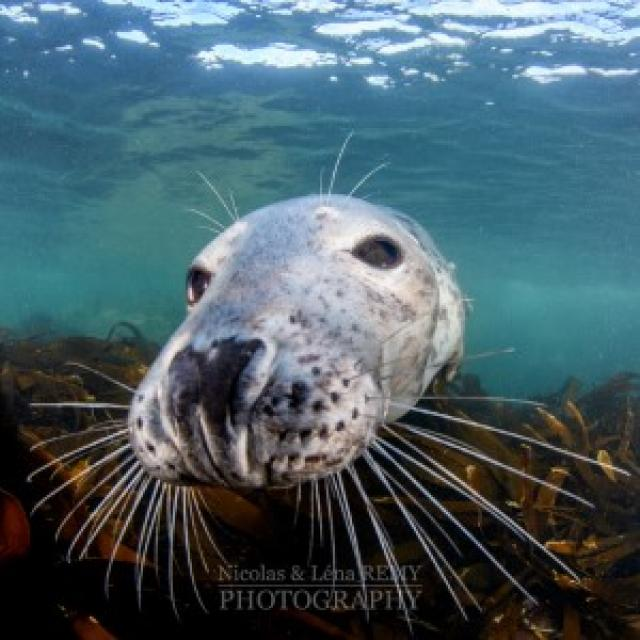Seal: (95, 162, 513, 614)
